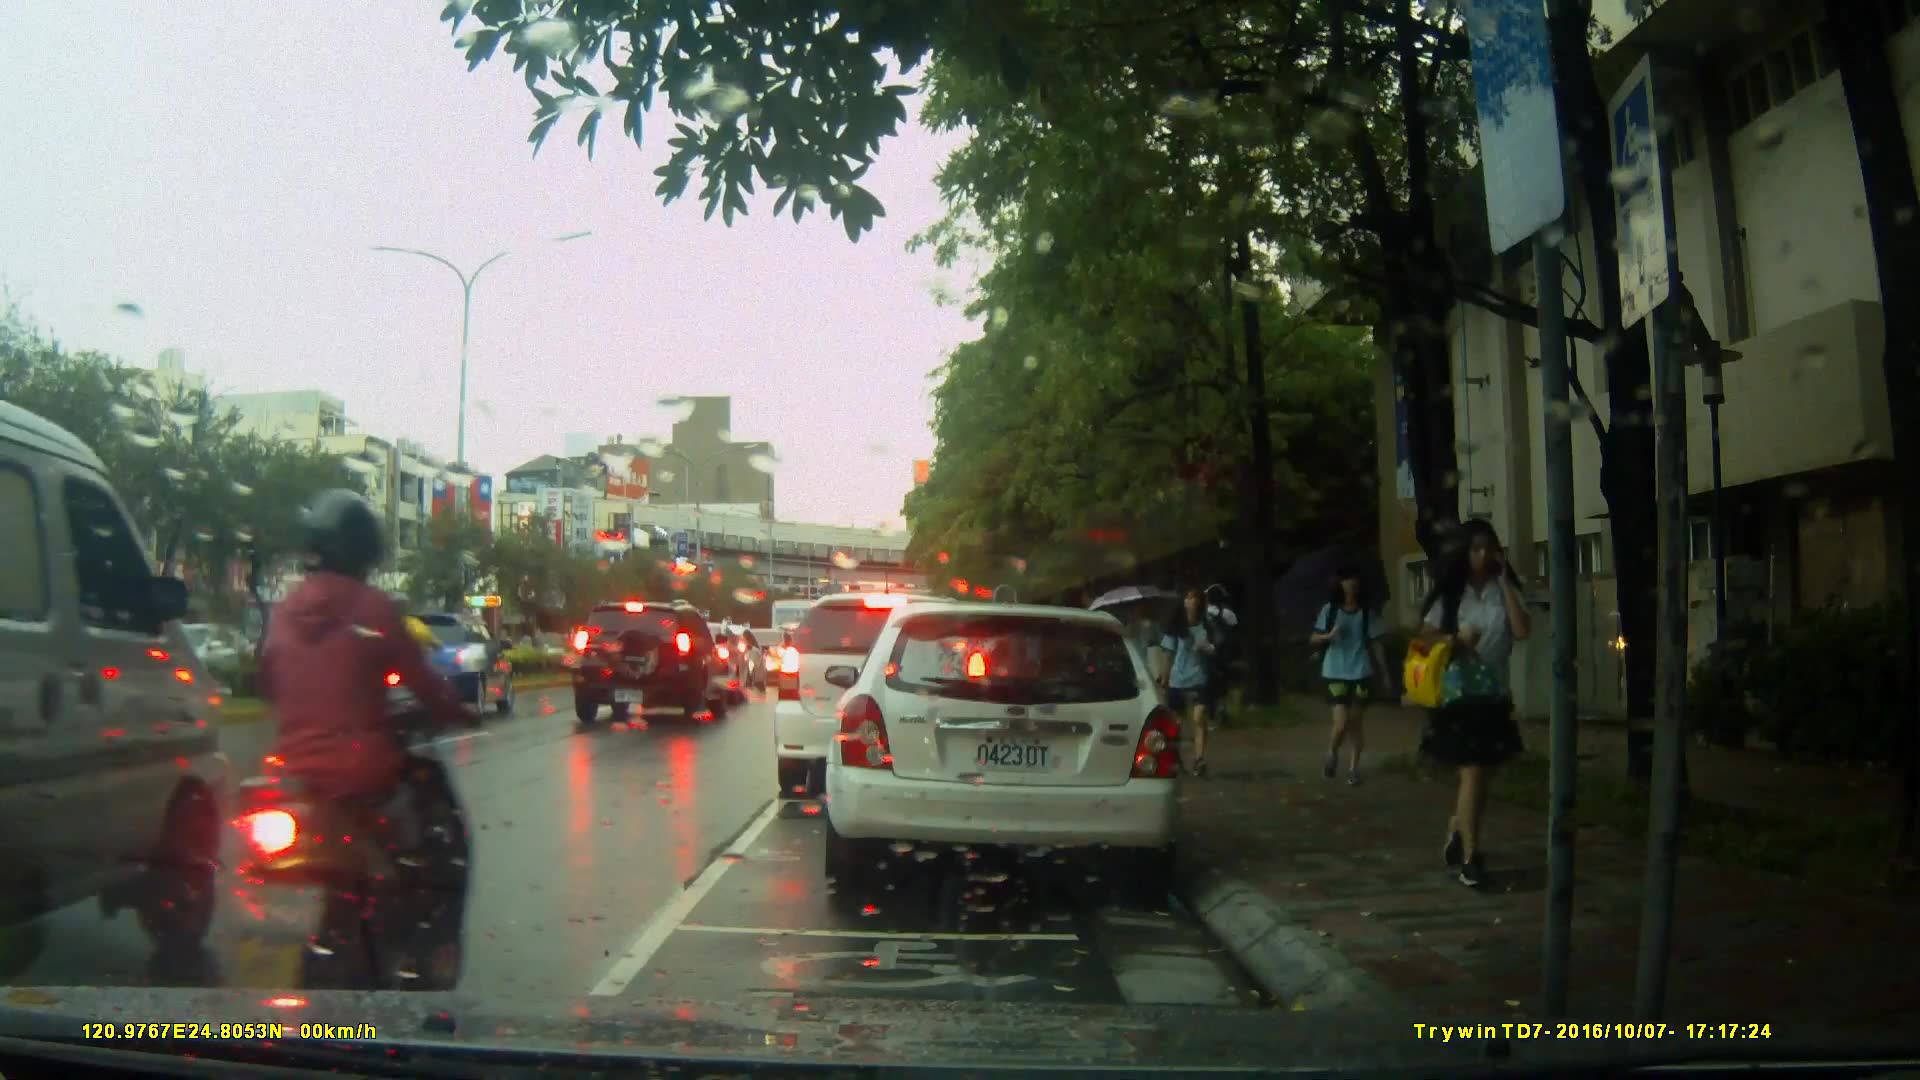pedestrian: (1428, 503, 1544, 881), (1306, 561, 1380, 792), (1168, 567, 1243, 763)
rider: (217, 491, 480, 1024)
vehicle: (1, 391, 277, 977), (815, 593, 1204, 909), (771, 590, 994, 802), (568, 600, 733, 725), (366, 612, 521, 718)
